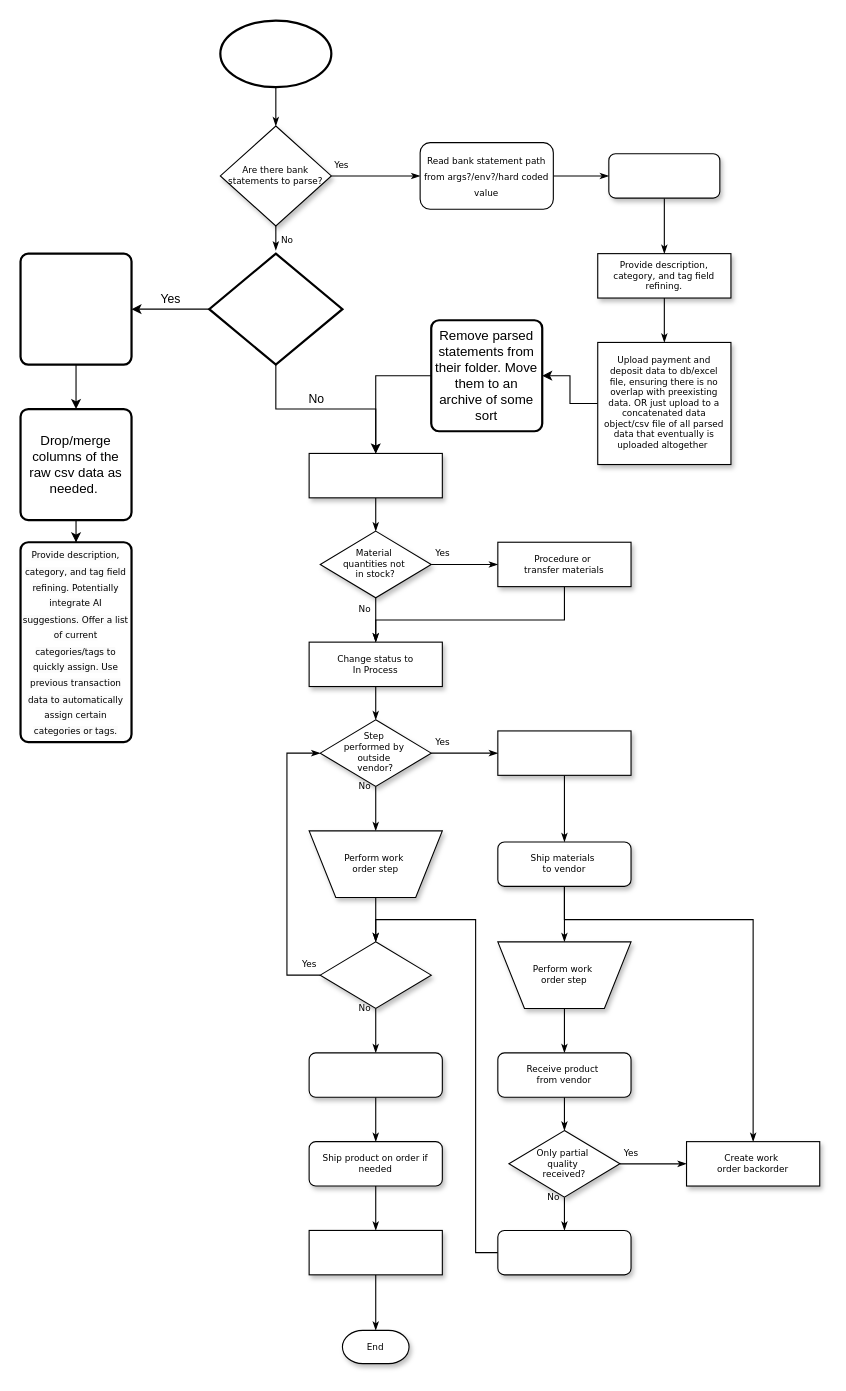
The diagram is 846 pixels wide and 1391 high, and some of its shapes have lost their labels. Here are the shapes that lost their labels. From the top down, the centre of each, then its label:
the point at 275,53: Execute src/main.py with proper args
the point at 664,177: Parse bank statement(s) into payments and deposits csv files
the point at 75,308: Read path to transaction csvs from args/env/hard coded value
the point at 275,308: Are there transaction csv files to normalize?
the point at 376,477: TO BE CONT.
the point at 565,754: Add or adjust vendor costs
the point at 376,976: Additional processing required?
the point at 376,1076: Receive info stock
the point at 376,1254: Change status to Complete
the point at 565,1254: Pay vendor invoice
